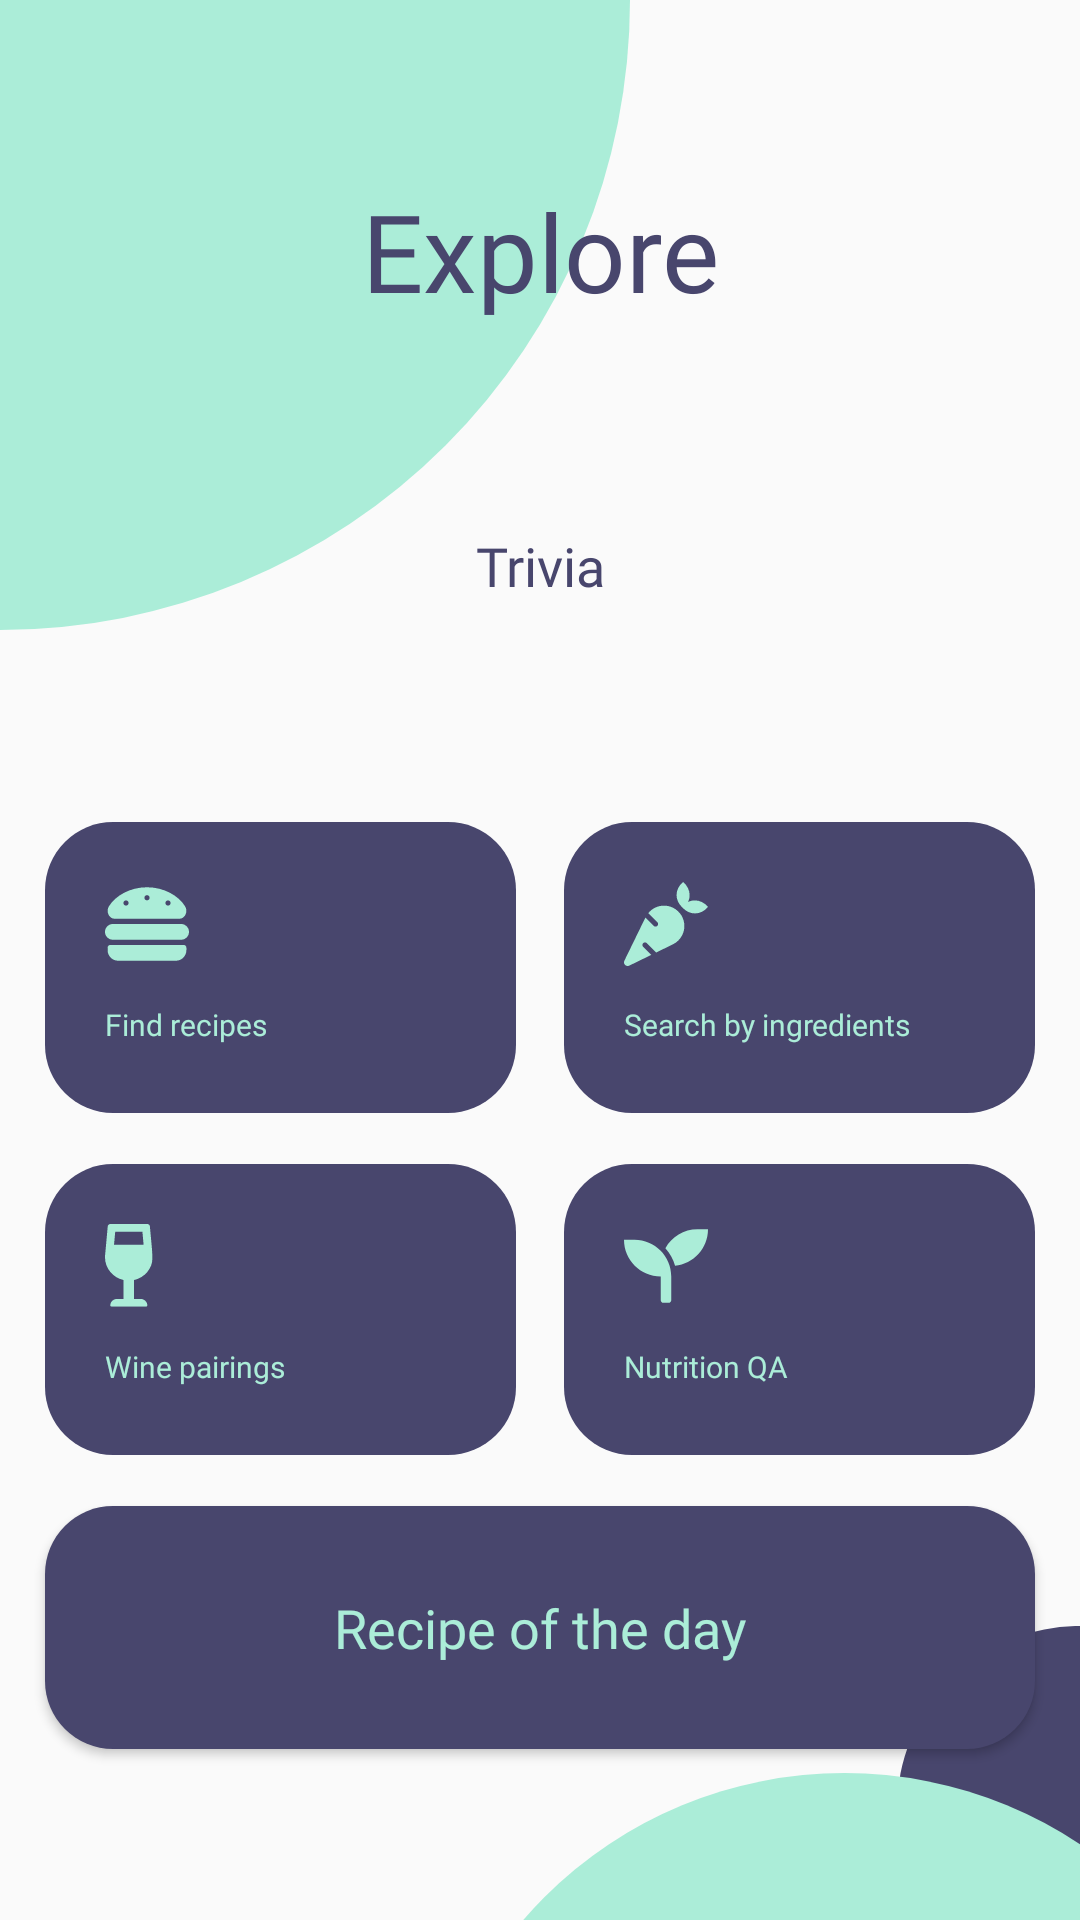

Named icons in this screenshot (1080*1920) and their centers, point (x, y):
carrot: point (666, 924)
hamburger: point (147, 924)
seedling: point (666, 1266)
wine glass: point (129, 1265)
